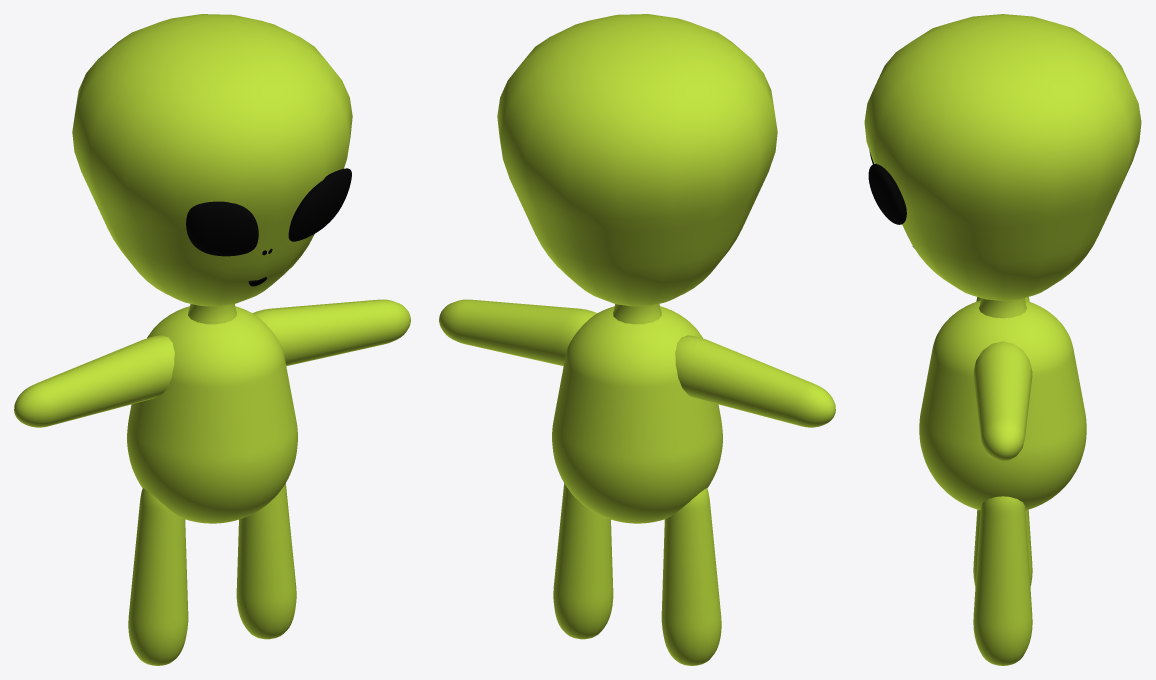
The model's file is alien-pet.fbx.
3 views of the same model, side by side, from view 1: azimuth 30°, elevation 25°; view 2: azimuth 150°, elevation 25°; view 3: azimuth 270°, elevation 25° (orthographic). The views are drawn at different scales.
Parts seen in each view (by area): view 1: Null_2; view 2: Null_2; view 3: Null_2.
Part boxes in pixels (left/top/right/bottom): Null_2: left=14, top=14, right=410, bottom=665; Null_2: left=439, top=14, right=835, bottom=665; Null_2: left=864, top=14, right=1141, bottom=665.
Size of the model in its own units: 87.78 by 131 by 54.73.
